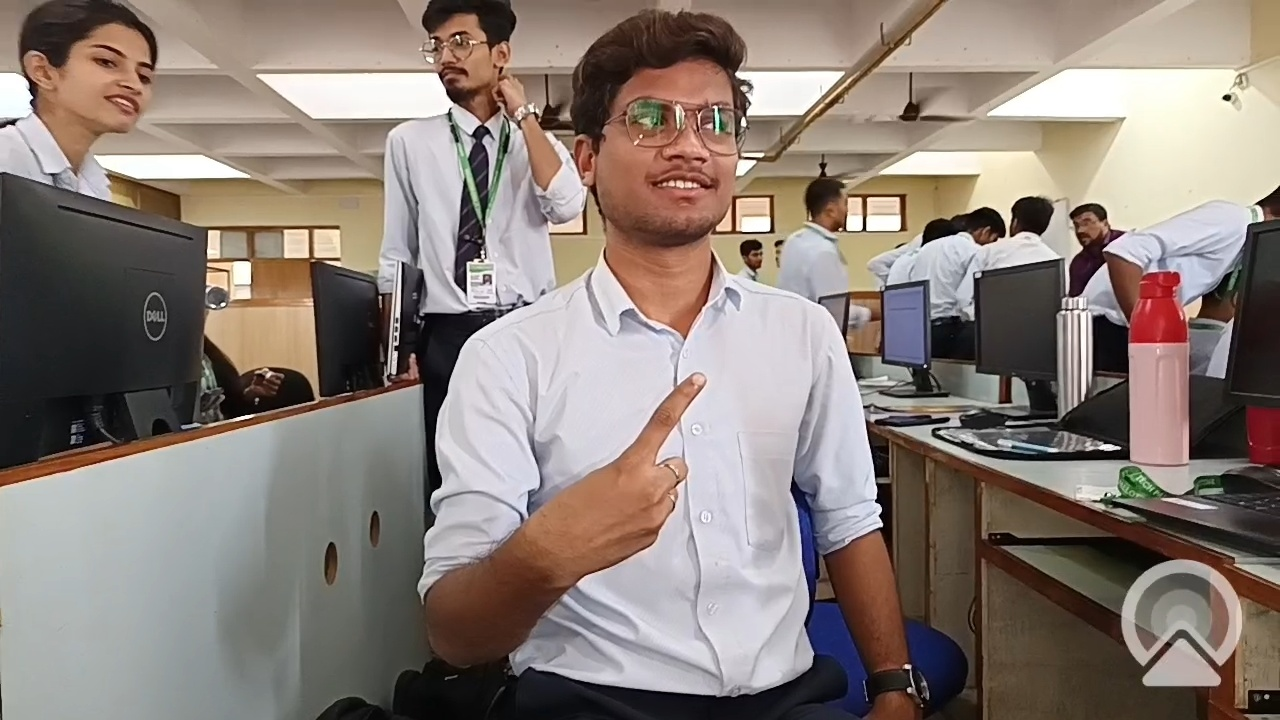I: (476, 359, 735, 612)
